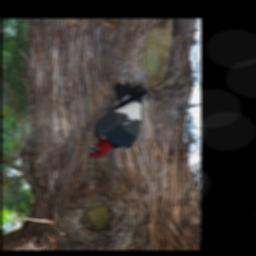Woodpecker: (80, 81, 153, 161)
